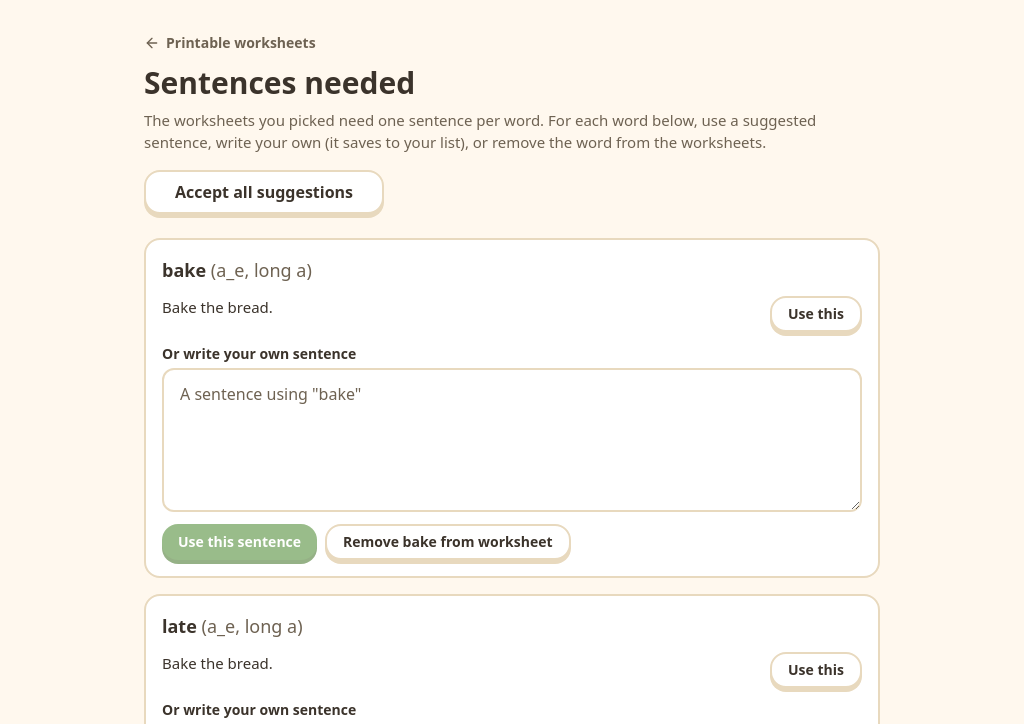
Scenario: WorksheetsPrintPage › approve-all two-state button (issue #511) › flips to a green Approve all once every gap word has a filled box
Check: the heading "Sentences needed" is shown, box top-left (144, 62), bottom-right (415, 102)
Step 1. Click the button "Accept all suggestions" → (264, 192), box top-left (144, 170), bottom-right (384, 214)
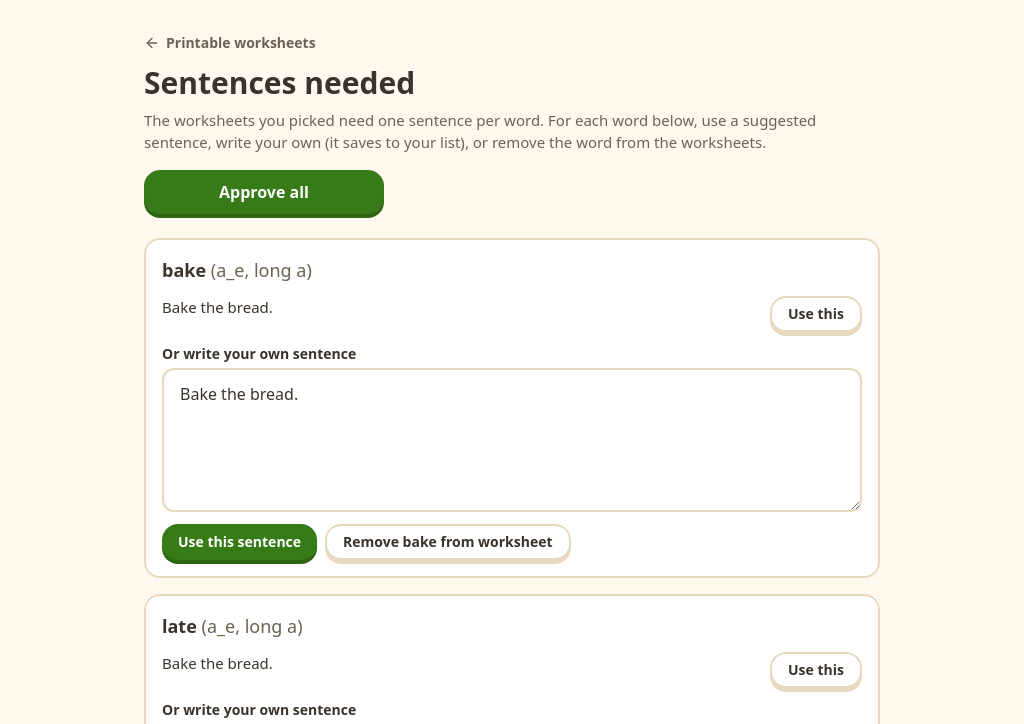
Check: the button "Accept all suggestions" is gone
